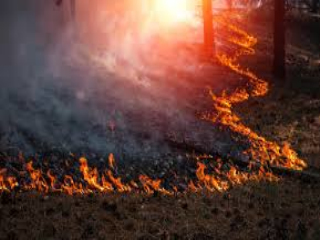fire: (215, 8, 293, 169), (6, 154, 268, 193)
smoke: (84, 17, 152, 85)
